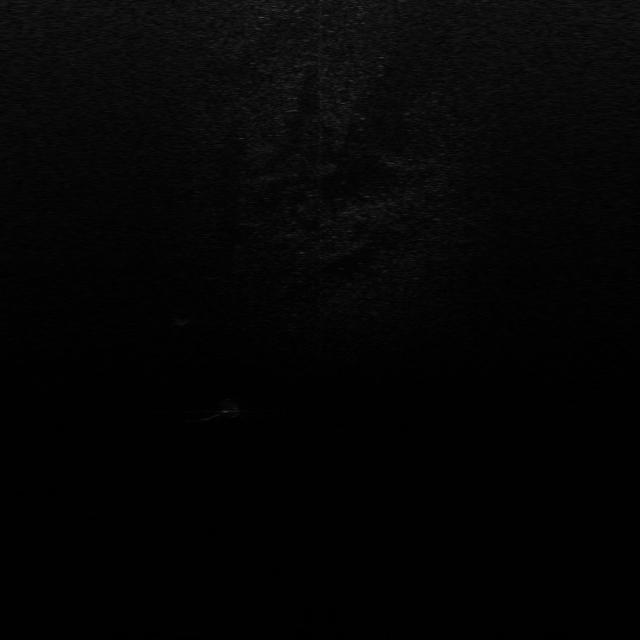ball: (214, 397, 244, 418)
circle cage: (170, 308, 198, 327)
